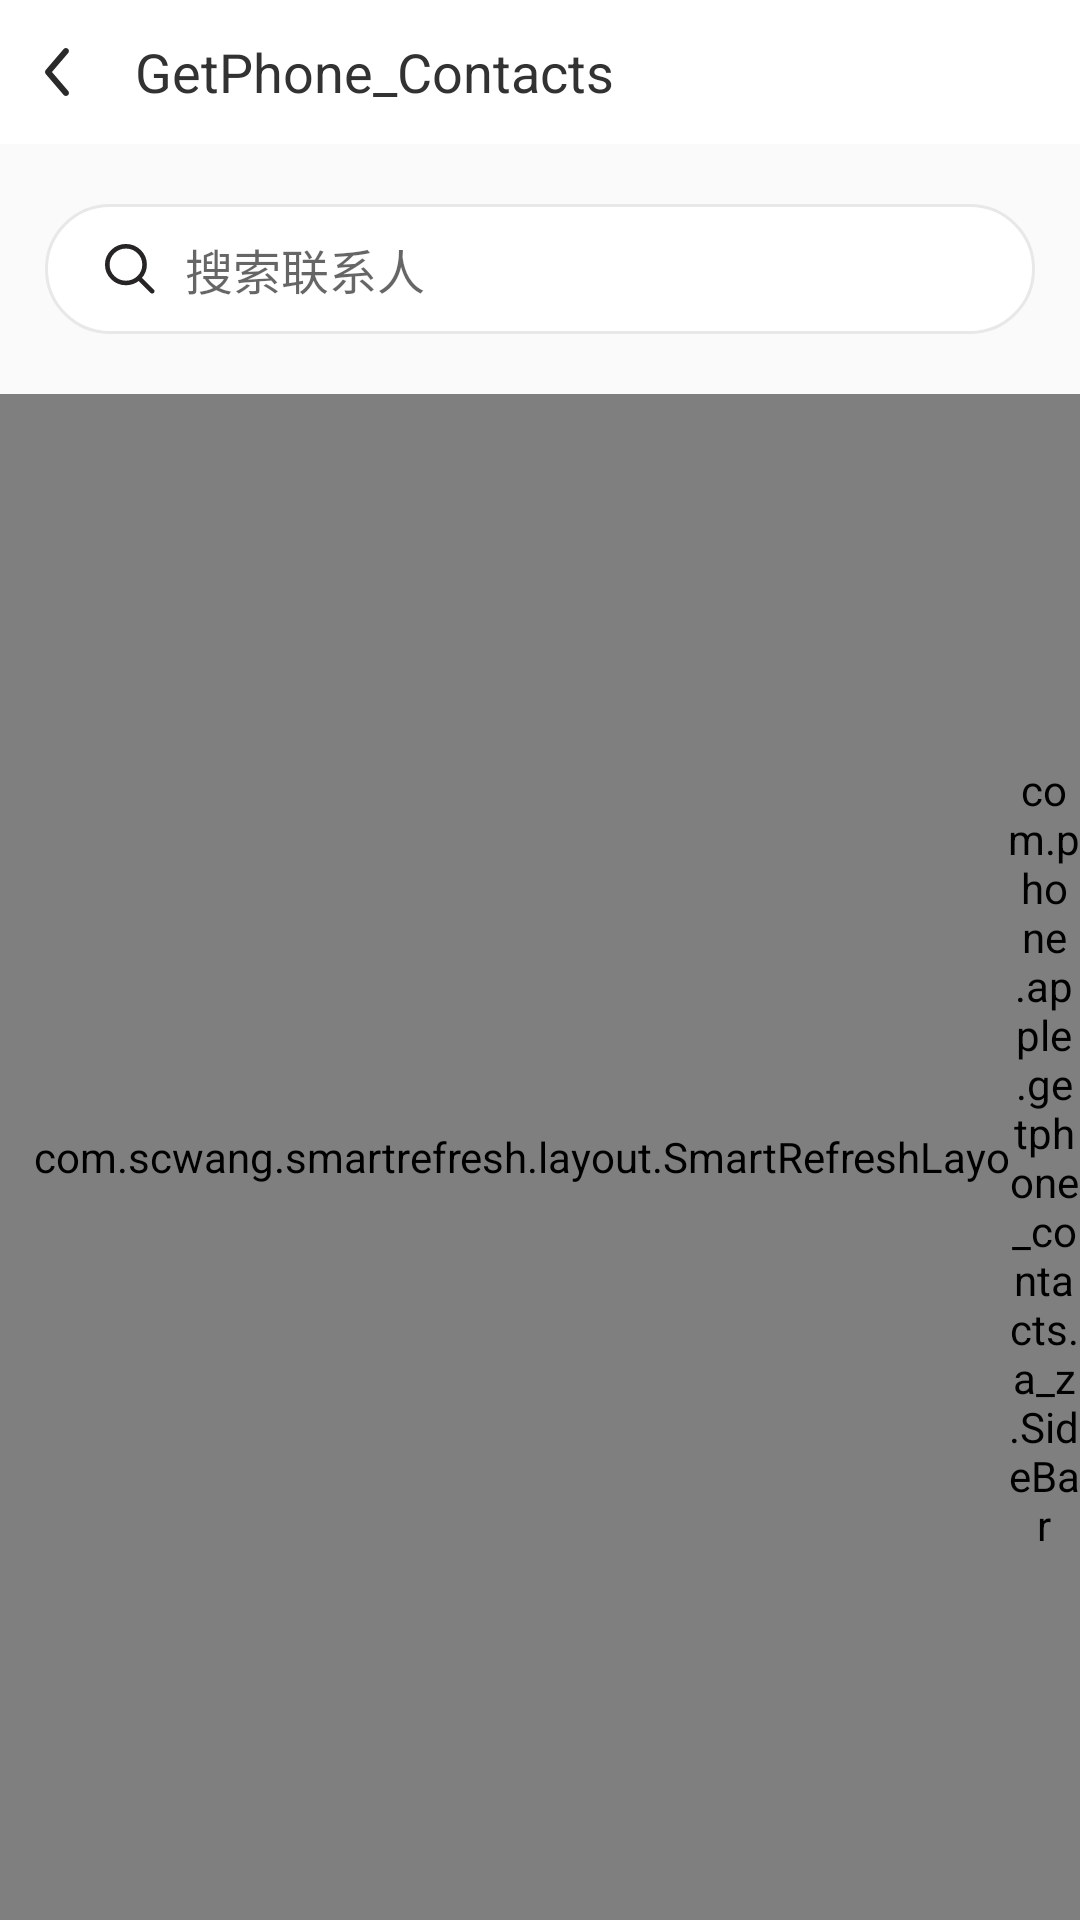

Where to tap for icons on this 1080x1920 app screen, as (x=x, y=y):
return: (x=57, y=72)
